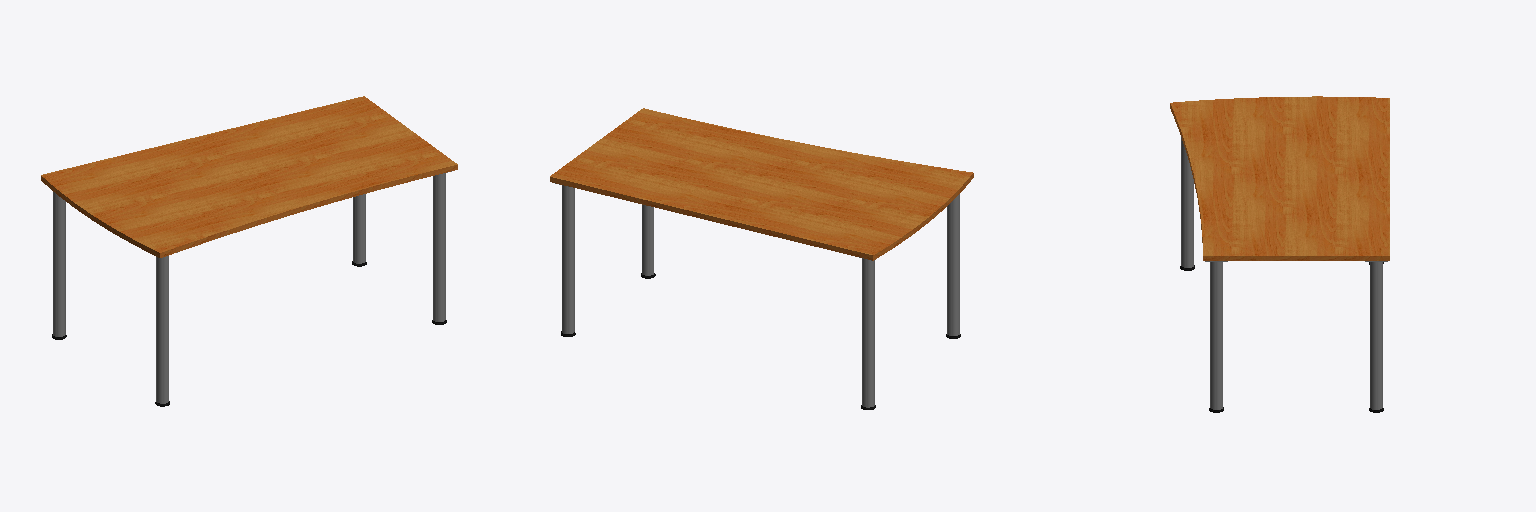
The picture shows the model from 3 angles: view 1: azimuth 30°, elevation 25°; view 2: azimuth 150°, elevation 25°; view 3: azimuth 270°, elevation 25°; orthographic projection.
Visible parts, largest first — view 1: alder_table_Cube.002, leg_downright2_Cylinder.007, leg_downleft2_Cylinder.004, leg_upleft2_Cylinder.005, leg_upright2_Cylinder.006; view 2: alder_table_Cube.002, leg_upright2_Cylinder.006, leg_upleft2_Cylinder.005, leg_downleft2_Cylinder.004, leg_downright2_Cylinder.007; view 3: alder_table_Cube.002, leg_downright2_Cylinder.007, leg_upright2_Cylinder.006, leg_downleft2_Cylinder.004.
Part boxes in pixels (x1,y1,x2,y2): alder_table_Cube.002: (41,96,457,257); leg_downright2_Cylinder.007: (432,171,451,324); leg_downleft2_Cylinder.004: (155,252,177,406); leg_upleft2_Cylinder.005: (52,192,66,339); leg_upright2_Cylinder.006: (352,194,366,266); alder_table_Cube.002: (550,108,973,260); leg_upright2_Cylinder.006: (555,183,575,336); leg_upleft2_Cylinder.005: (859,257,875,409); leg_downleft2_Cylinder.004: (946,194,960,338); leg_downright2_Cylinder.007: (641,205,655,278); alder_table_Cube.002: (1170,96,1389,260); leg_downright2_Cylinder.007: (1205,261,1227,412); leg_upright2_Cylinder.006: (1365,261,1387,412); leg_downleft2_Cylinder.004: (1180,137,1194,270).
Size of the model in its own units: 162 by 75.38 by 94.18.
3 materials, 1 textured.